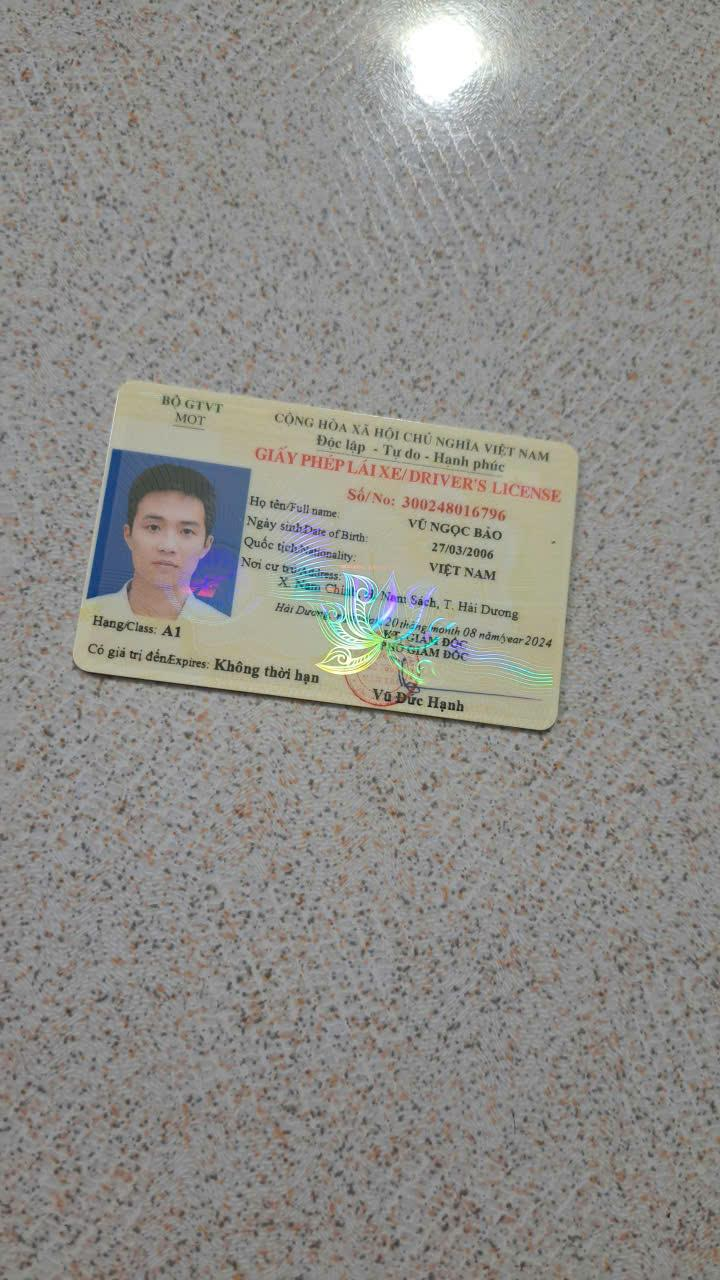gplx: (66, 373, 582, 737)
